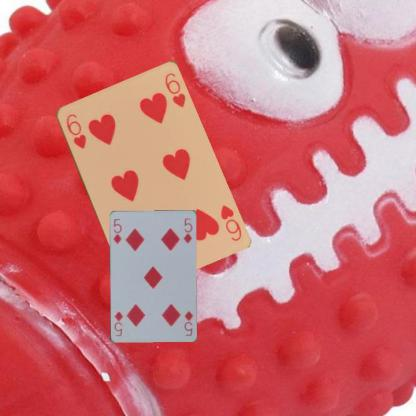5d: (182, 308, 194, 338), (111, 216, 123, 246)
6h: (217, 202, 243, 243), (63, 111, 87, 150)
